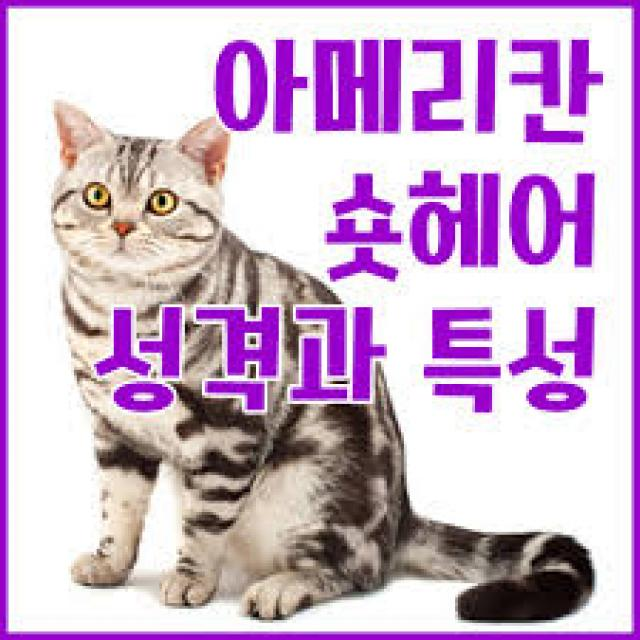cat-face: (41, 93, 279, 314)
